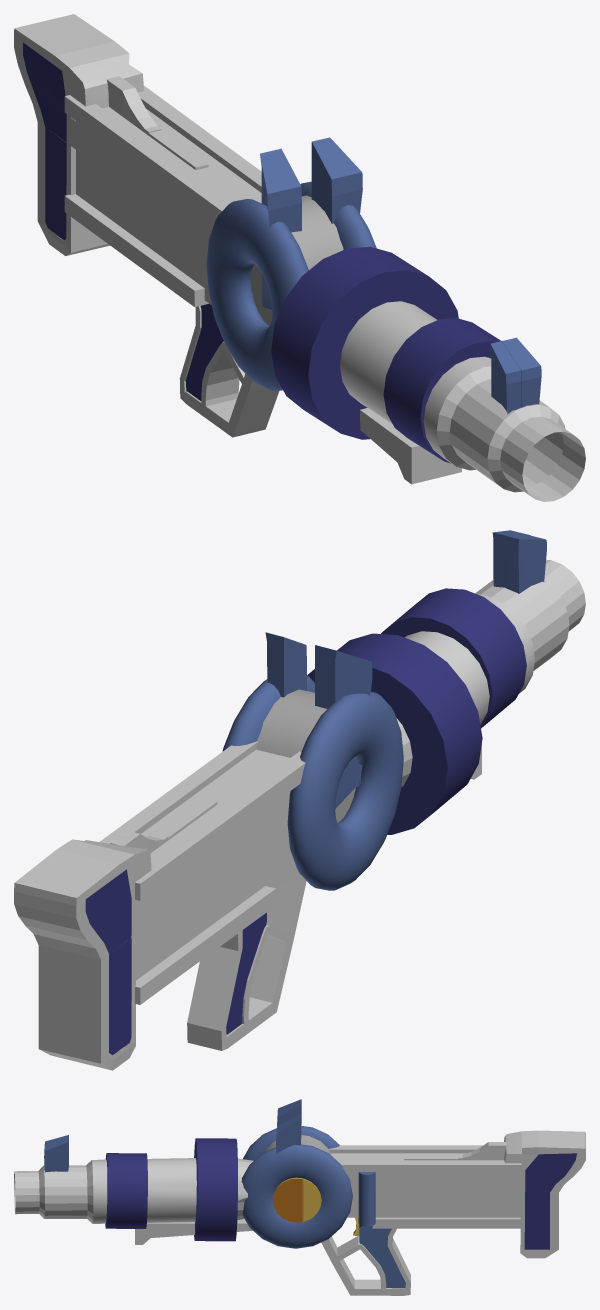
Rendered from TeleporterGun.fbx.
The picture shows the model from 3 angles, top to bottom: view 1: azimuth 30°, elevation 25°; view 2: azimuth 150°, elevation 25°; view 3: azimuth 270°, elevation 25°; orthographic projection. The views are drawn at different scales.
Parts seen in each view (by area): view 1: pasted__pCylinder3, pCylinder3, pasted__Stock1, pasted__Loading_Area2, pasted__pasted__pasted__Arc_Charger_Core1, pCylinder2, pasted__pCube2, pasted__pCube14, pCube17, pCube19, pasted__pCube19, pasted__pCube16 (+5 smaller); view 2: pasted__Stock1, pasted__pasted__pasted__Arc_Charger_Core1, pasted__Loading_Area2, pCylinder3, pasted__pCube14, pasted__pCylinder3, pCylinder2, pasted__pCube2, pCube17, pCube19, pCylinder1, pCube16 (+4 smaller); view 3: pasted__pCylinder3, pasted__Loading_Area2, pasted__pasted__Arc_Charger, pasted__Stock1, pCylinder3, pCylinder2, pCube16, pasted__pCube14, pCube18, pasted__pasted__Arc_Charger_Core, pasted__pPlane3, pCube17 (+7 smaller).
Boxes of the visible parts, x1,y1,x2,y2 form: pasted__pCylinder3: [340, 301, 585, 501]; pCylinder3: [271, 246, 458, 439]; pasted__Stock1: [14, 14, 144, 255]; pasted__Loading_Area2: [76, 107, 261, 304]; pasted__pasted__pasted__Arc_Charger_Core1: [206, 199, 308, 391]; pCylinder2: [383, 318, 500, 463]; pasted__pCube2: [260, 137, 362, 309]; pasted__pCube14: [179, 306, 279, 437]; pCube17: [64, 95, 230, 222]; pCube19: [64, 194, 208, 306]; pasted__pCube19: [490, 337, 541, 414]; pasted__pCube16: [360, 408, 461, 484]; pasted__Stock1: [14, 839, 171, 1070]; pasted__pasted__pasted__Arc_Charger_Core1: [287, 691, 403, 890]; pasted__Loading_Area2: [136, 749, 299, 980]; pCylinder3: [307, 633, 482, 834]; pasted__pCube14: [187, 873, 306, 1050]; pasted__pCylinder3: [396, 559, 585, 786]; pCylinder2: [381, 588, 526, 728]; pasted__pCube2: [265, 632, 372, 809]; pCube17: [135, 751, 305, 900]; pCube19: [135, 886, 275, 1004]; pCylinder1: [256, 689, 355, 822]; pCube16: [100, 741, 258, 843]; pasted__pCylinder3: [14, 1158, 253, 1223]; pasted__Loading_Area2: [331, 1153, 520, 1217]; pasted__pasted__Arc_Charger: [241, 1144, 352, 1248]; pasted__Stock1: [504, 1130, 585, 1258]; pCylinder3: [194, 1138, 237, 1241]; pCylinder2: [105, 1153, 147, 1228]; pCube16: [337, 1160, 521, 1174]; pasted__pCube14: [321, 1228, 410, 1295]; pCube18: [372, 1217, 520, 1228]; pasted__pasted__Arc_Charger_Core: [272, 1177, 321, 1222]; pasted__pPlane3: [359, 1224, 405, 1288]; pCube17: [329, 1145, 482, 1153].
Size of the model in its own units: 12.18 by 23.47 by 66.38.
